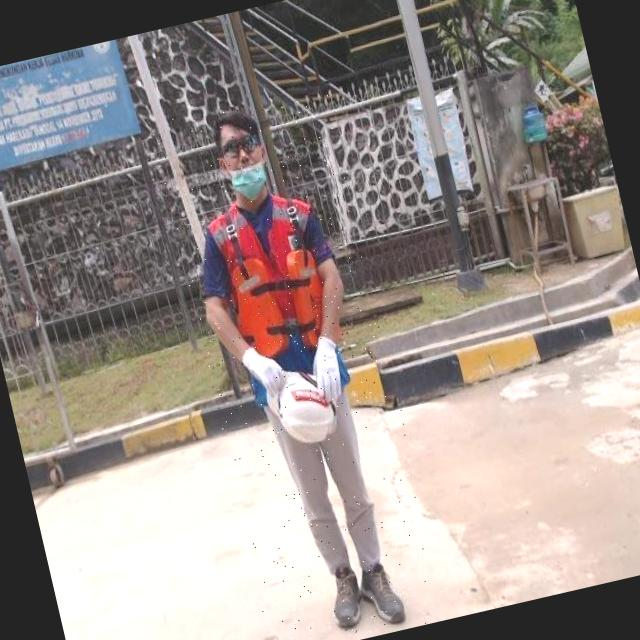boots: (358, 558, 409, 631), (322, 562, 369, 632)
gloves: (286, 304, 368, 410), (236, 328, 296, 402)
helmet: (260, 362, 346, 452)
no-helmet: (199, 90, 289, 226)
vest: (202, 185, 353, 408)
